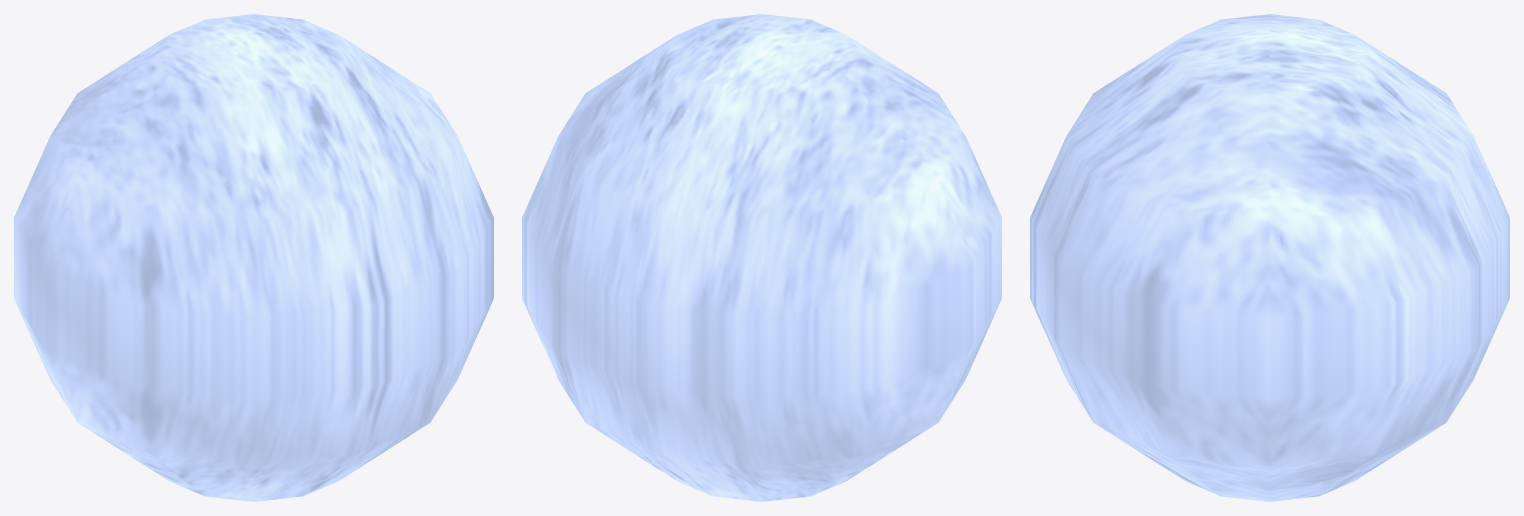
The model's file is mm9_deco_waterorb.glb.
The picture shows the model from 3 angles, left to right: view 1: azimuth 30°, elevation 25°; view 2: azimuth 150°, elevation 25°; view 3: azimuth 270°, elevation 25°; orthographic projection.
Visible parts, largest first — view 1: Waterorb; view 2: Waterorb; view 3: Waterorb.
Boxes of the visible parts, x1,y1,x2,y2 form: Waterorb: [14, 14, 493, 501]; Waterorb: [522, 14, 1001, 501]; Waterorb: [1030, 14, 1509, 501].
Size of the model in its own units: 0.4929 by 0.5013 by 0.4928.
1 material, 1 textured.
